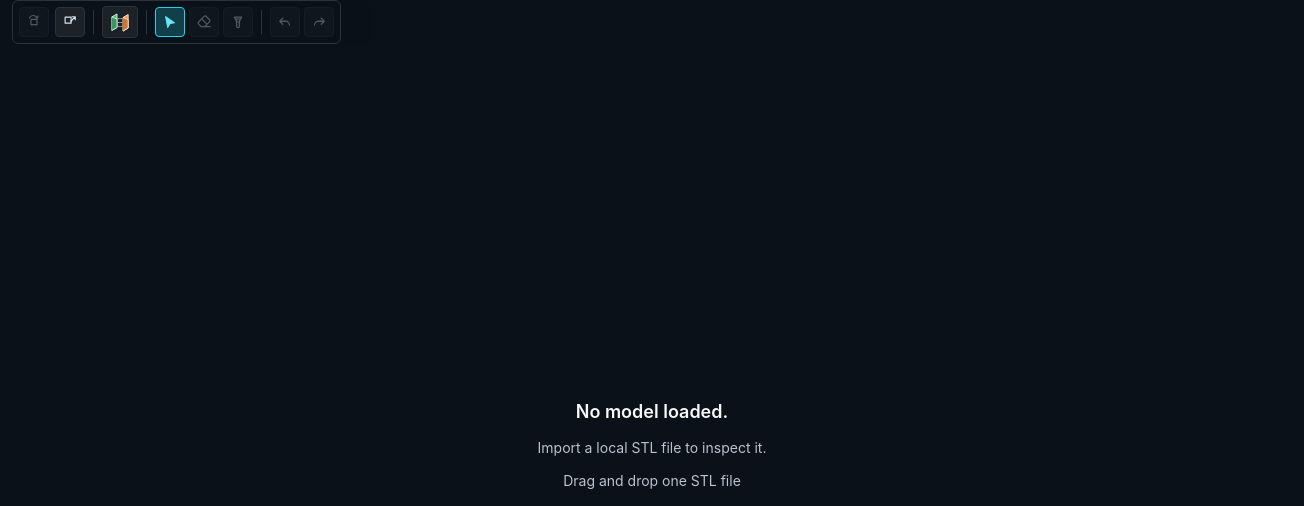
Scenario: Printer dimensions prompt -- Segmentation › shows the contextual printer-dimensions prompt when the Segmentation tab is active and no dimensions are set
Click the button named "Constructed Cutting Plan" at (120, 22), box [102,6,138,38]
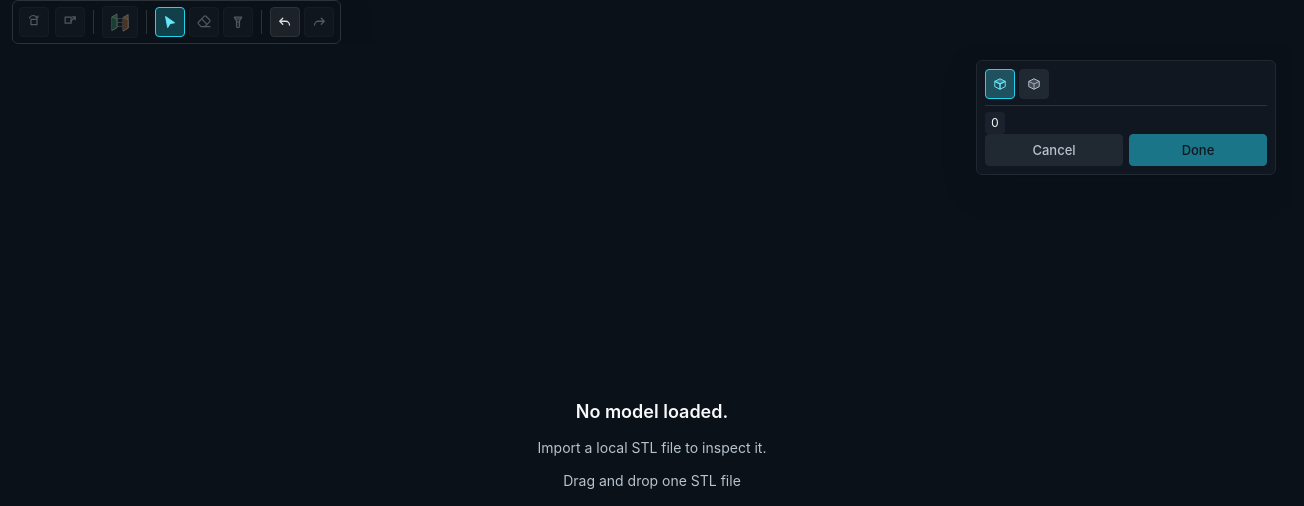
Click the tab named "Segmentation" at (1034, 84), box [1019,69,1049,99]
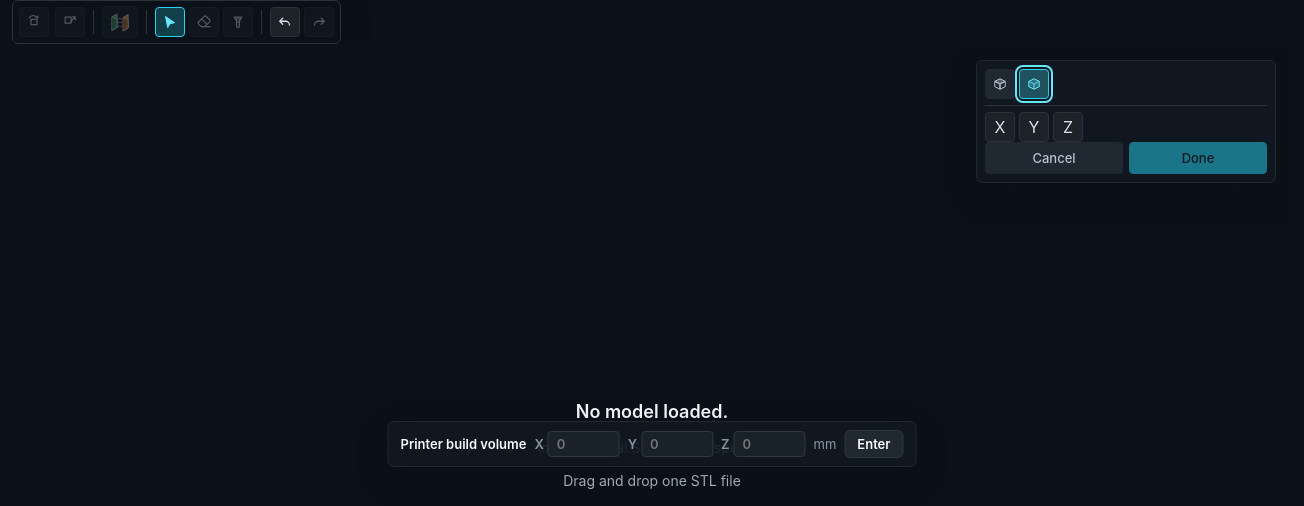
Now the form labelled "Printer build volume" is shown, box [388,421,916,467]
